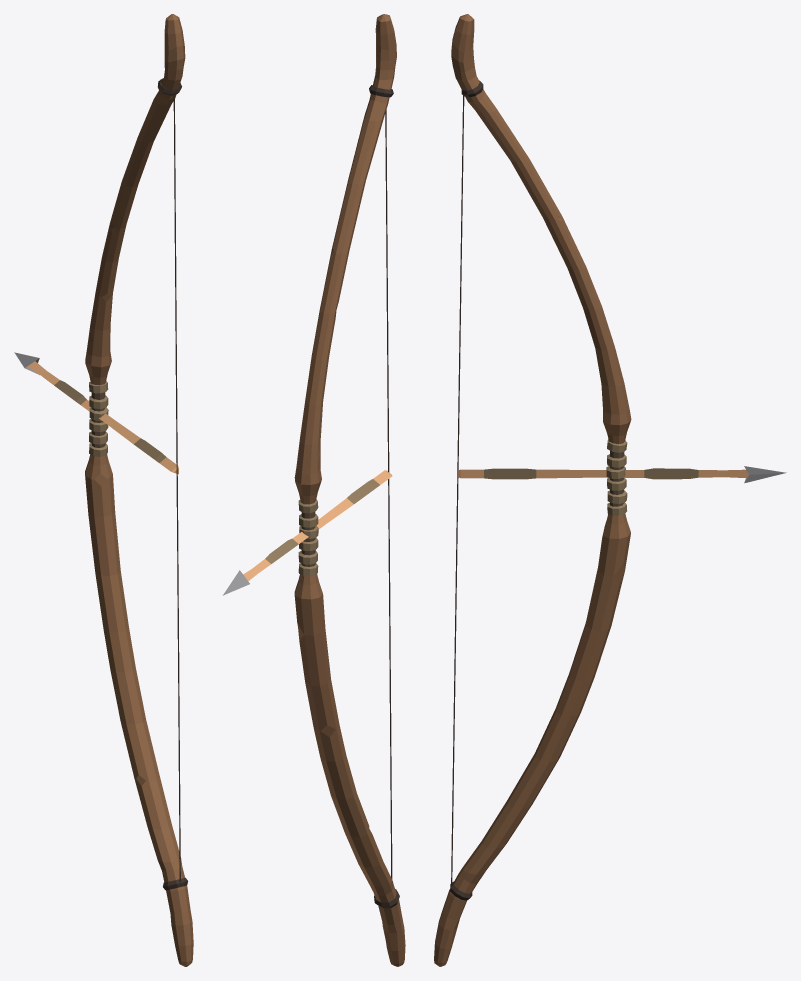
Rendered from Bow.fbx.
The picture shows the model from 3 angles, left to right: view 1: azimuth 30°, elevation 25°; view 2: azimuth 150°, elevation 25°; view 3: azimuth 270°, elevation 25°; orthographic projection. The views are drawn at different scales.
Parts seen in each view (by area): view 1: Cylinder.001; view 2: Cylinder.001; view 3: Cylinder.001.
Part boxes in pixels (x1,y1,x2,y2): Cylinder.001: (14,14,193,966); Cylinder.001: (222,14,405,966); Cylinder.001: (434,14,786,966).
Bounding box in the file's own units: 2.67 × 98.15 × 32.97.
